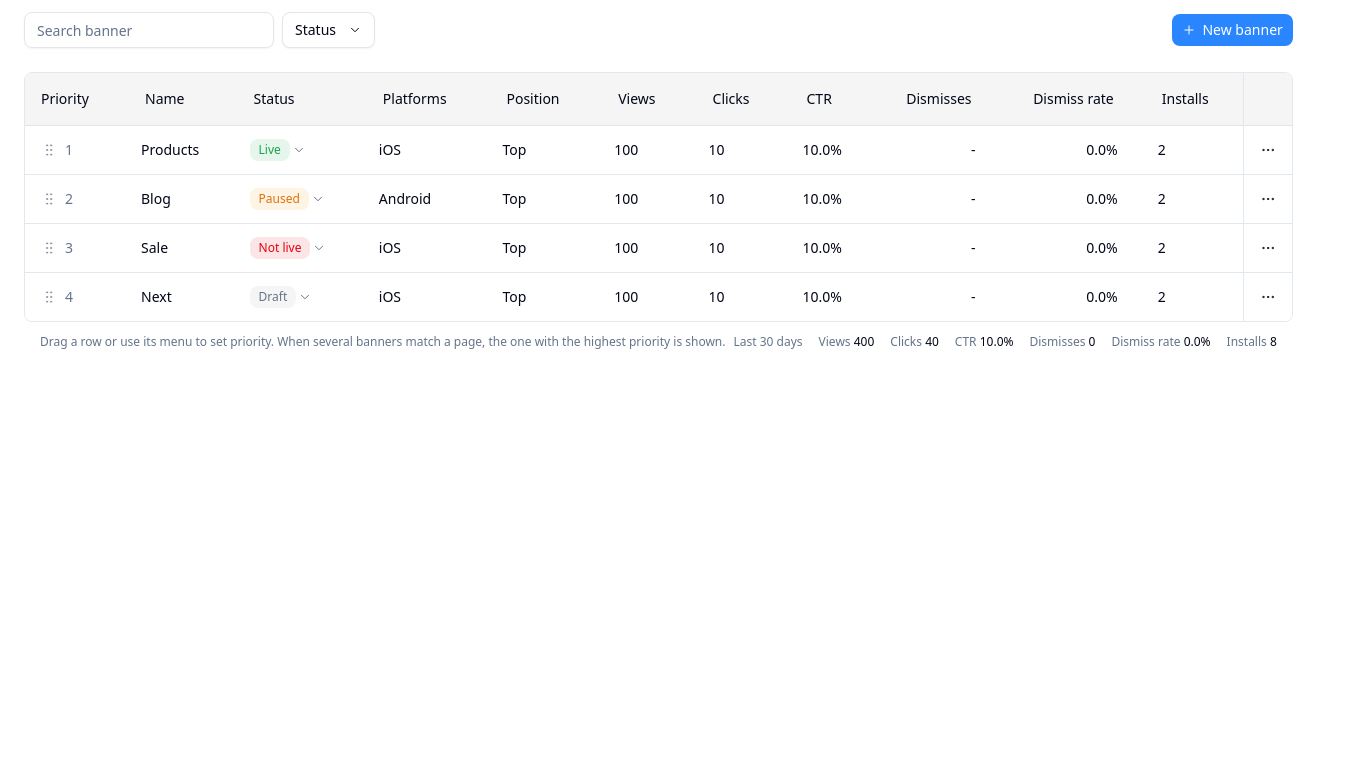
Test: SmartBannersPage search and filters › shows drafts and archived banners in their own views, archived without priority
Expected: the column heading "Priority" is shown, [25, 73, 121, 126]
Click the button with aria-label "Status: All" at coordinates (328, 30), box [282, 12, 375, 48]
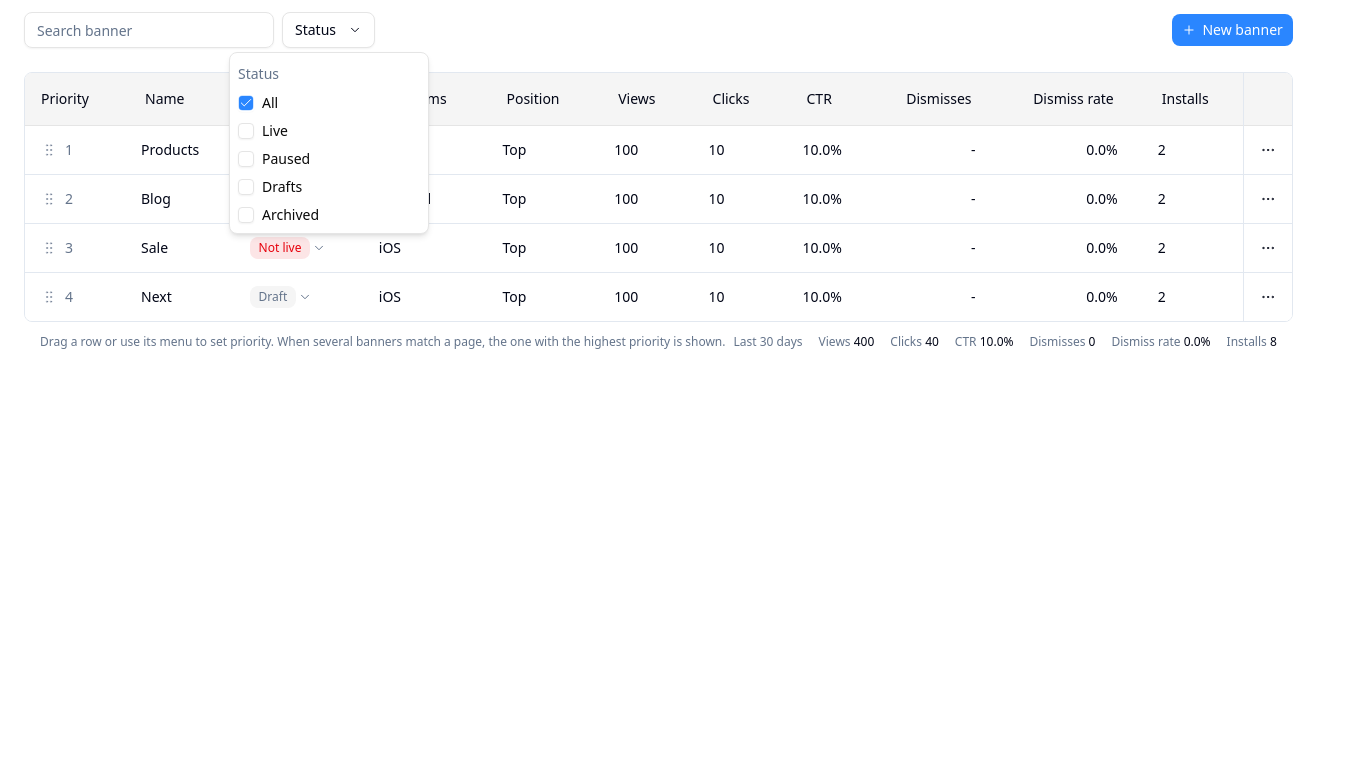
Click the checkbox named "Drafts" next to "Drafts" at coordinates (246, 187), box [238, 179, 254, 195]
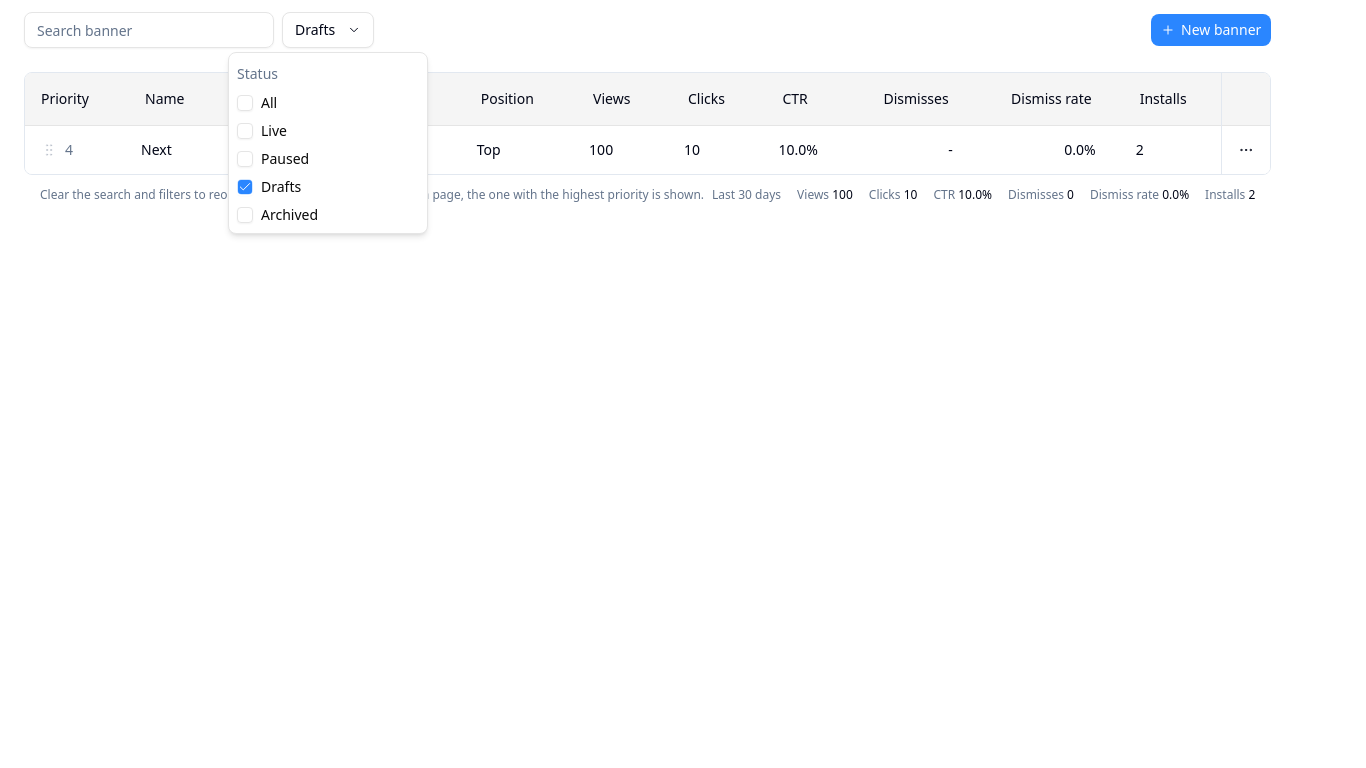
Click the checkbox named "Archived" next to "Archived" at coordinates (245, 215), box [237, 207, 253, 223]
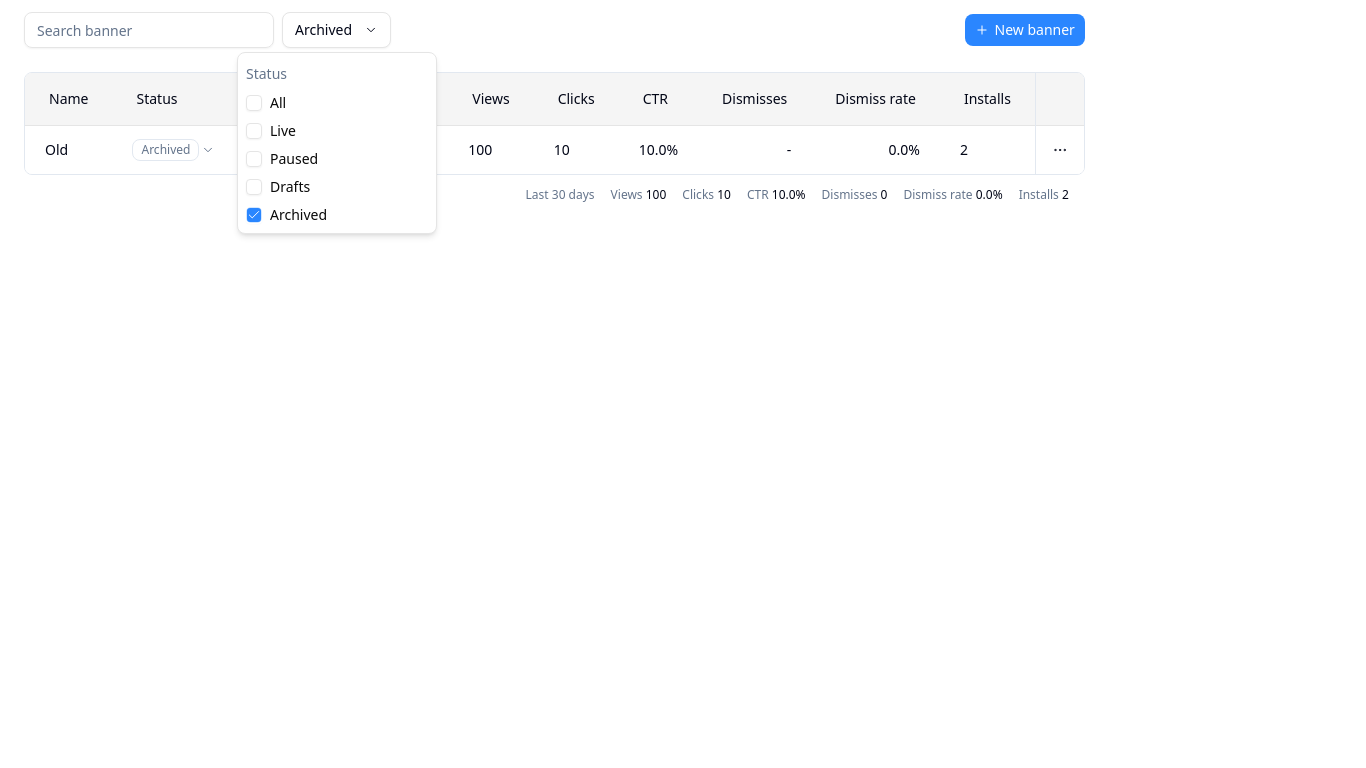
Expected: the button "Reorder" is not shown
Result: the text "Priority" is gone
Result: the text "highest priority" is gone
